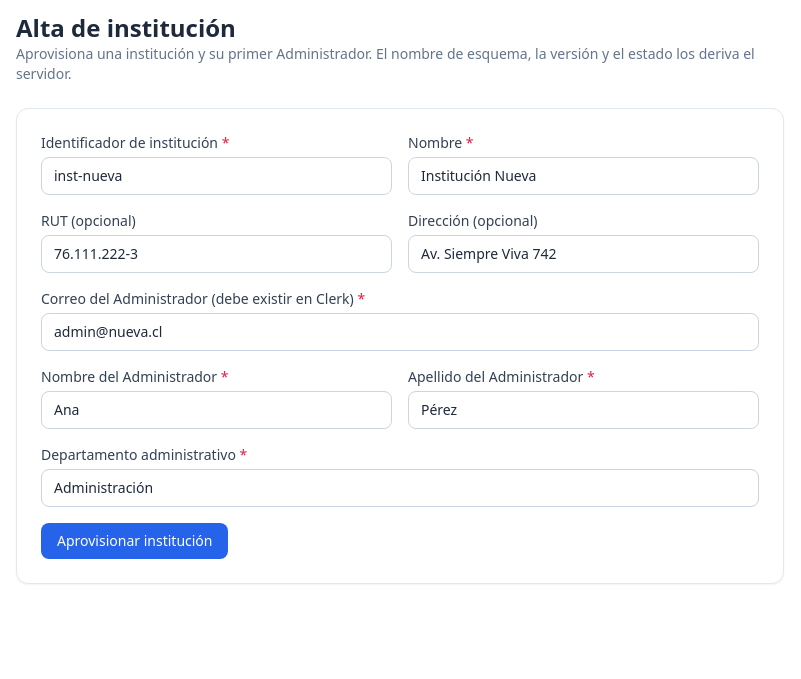
Test case: AltaInstitucionComponent › AC-8: un 409 muestra el mensaje real y no declara éxito
The width and height of the screenshot is (801, 679).
Click the submit button.
click(135, 541)  # box x1=41 y1=523 x2=228 y2=559
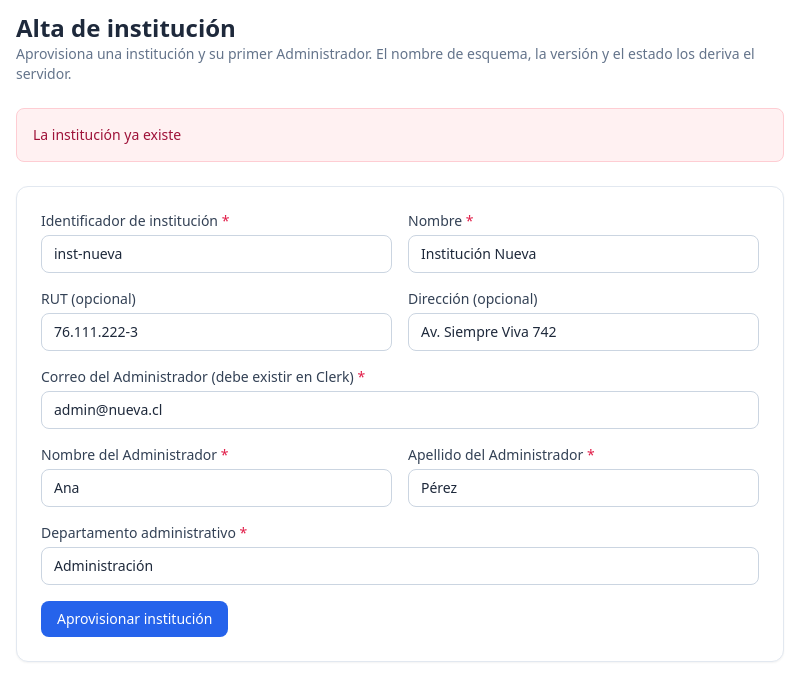
Result: the message "La institución ya existe" is shown at x1=16 y1=108 x2=784 y2=162
